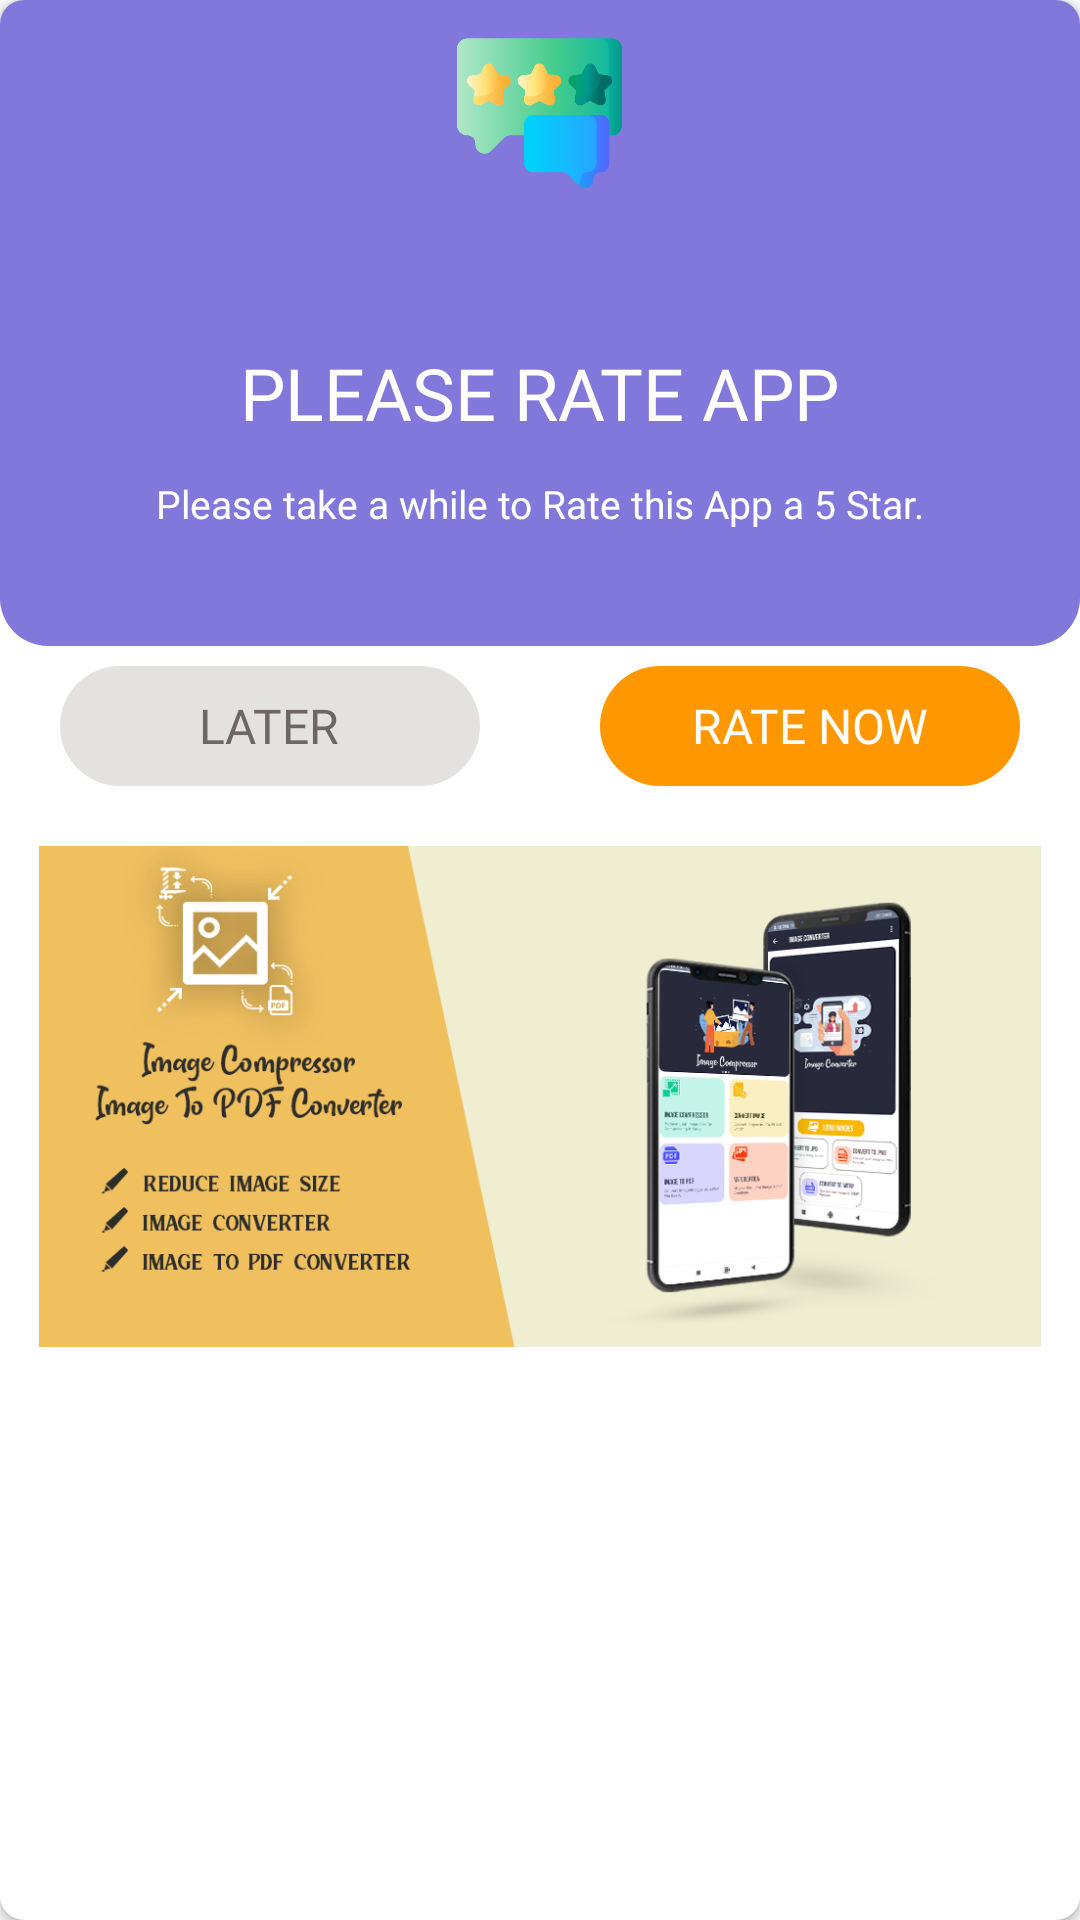

Icon bounding boxes for this 1080x1920 phone screenshot, format (x1, y1, x2, y2):
rating: (457, 38, 622, 188)
